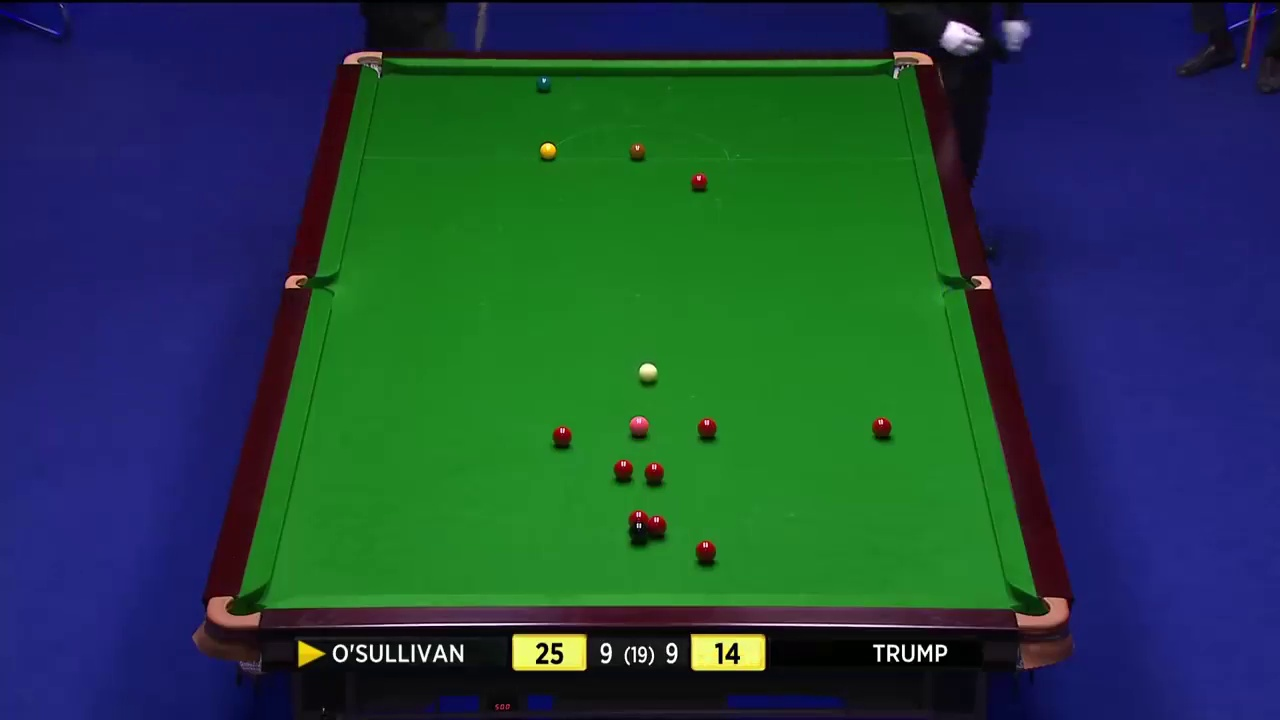ball: (551, 423, 573, 446), (694, 541, 717, 563), (627, 519, 648, 543), (627, 414, 651, 434), (873, 417, 893, 441), (697, 415, 715, 439), (612, 459, 634, 478), (627, 139, 645, 162), (644, 461, 663, 482), (535, 75, 555, 93), (638, 366, 658, 384), (540, 142, 555, 162), (690, 172, 708, 188)
